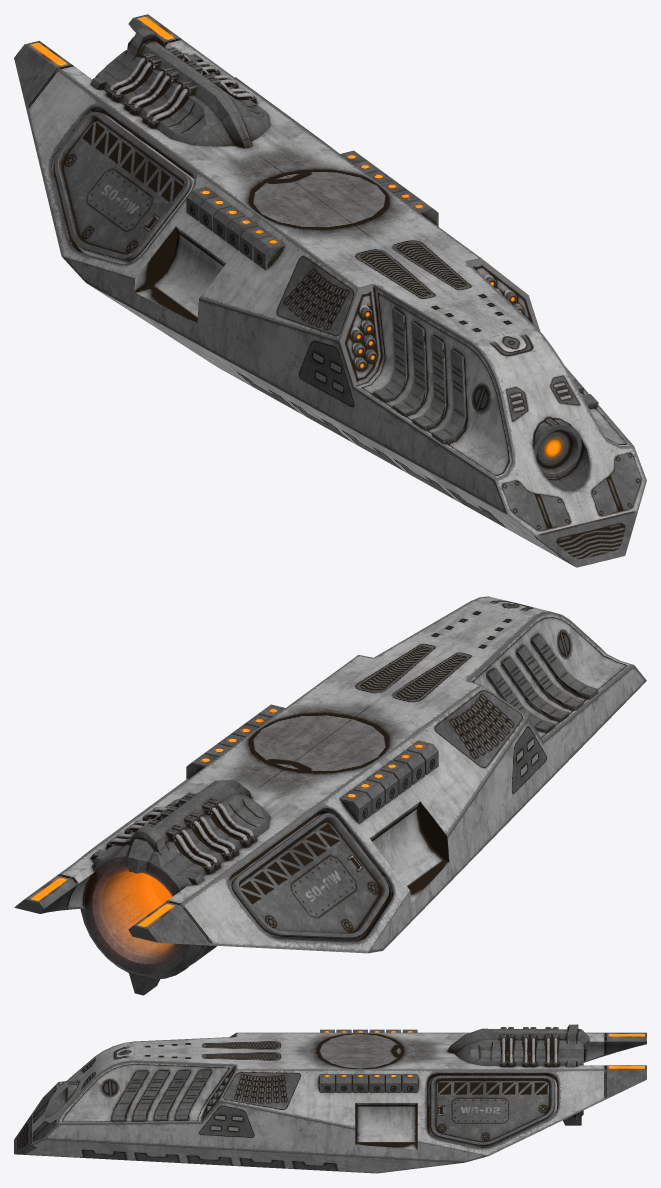
File: Ship.fbx
3 views of the same model, one above another, from view 1: azimuth 30°, elevation 25°; view 2: azimuth 150°, elevation 25°; view 3: azimuth 270°, elevation 25° (orthographic). The views are drawn at different scales.
Parts seen in each view (by area): view 1: defaultMaterial.007; view 2: defaultMaterial.007; view 3: defaultMaterial.007.
Boxes of the visible parts, bbox=[...] form: defaultMaterial.007: bbox=[14, 14, 646, 567]; defaultMaterial.007: bbox=[14, 596, 646, 995]; defaultMaterial.007: bbox=[14, 1024, 646, 1173].
Bounding box in the file's own units: 68.73 × 42.44 × 200.
